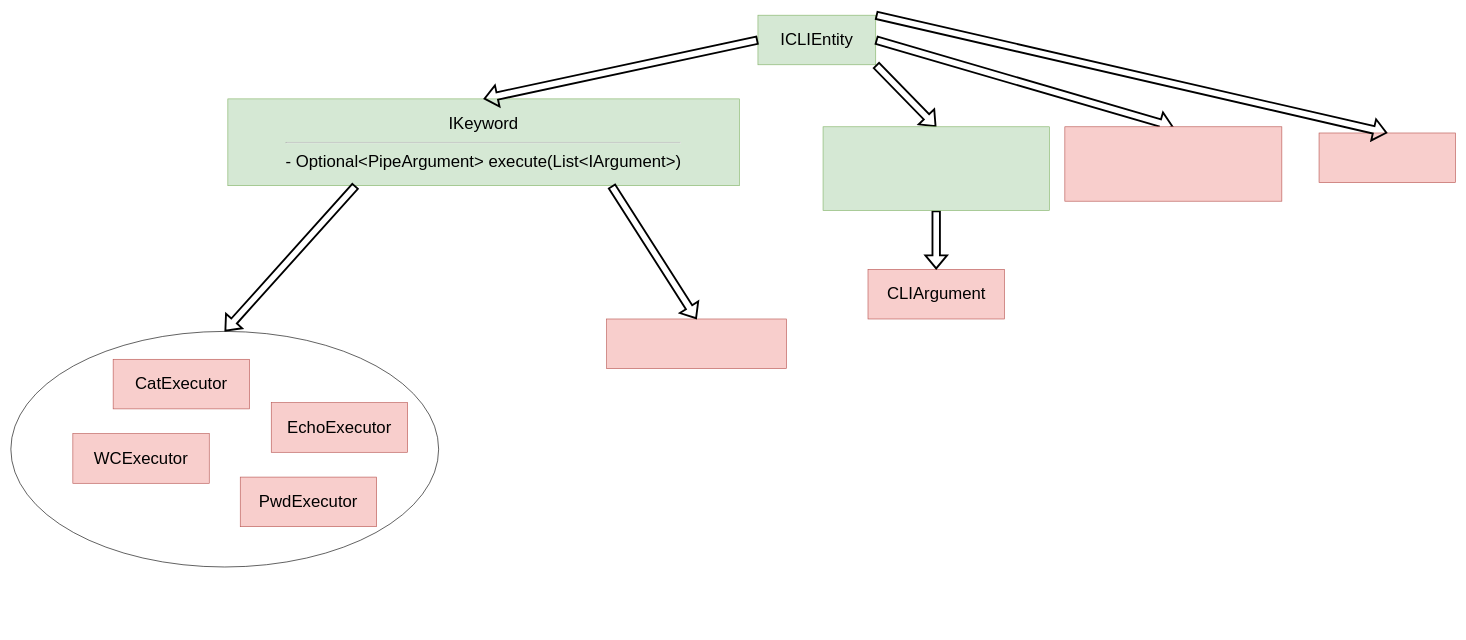
This 1466x640 diagram has some shape labels left out. The centre of each missing label's shape, as x and y in pixels:
"Exit" goes at point 1386,157.
"ExternalExecutor" goes at point 696,343.
"IArgument String getArgument()" goes at point 935,168.
"Initialiation Variable getVariable()" goes at point 1173,163.
